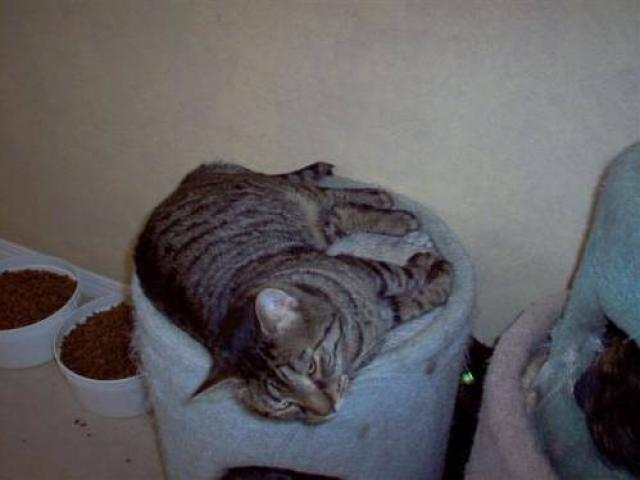cat: (146, 139, 450, 434)
